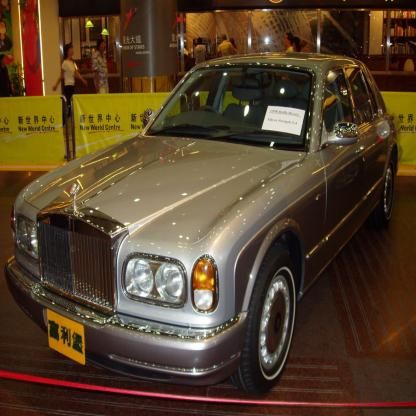Car: (6, 53, 405, 396)
